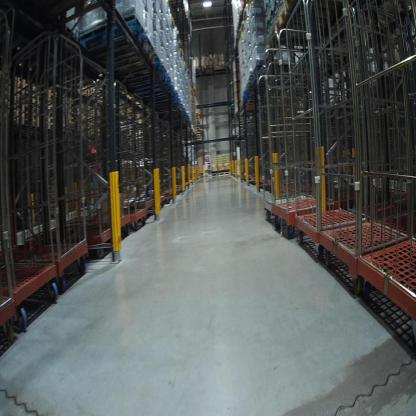pallet: (77, 19, 147, 57), (98, 42, 154, 78), (275, 5, 334, 39), (253, 61, 306, 90), (127, 64, 165, 92), (140, 76, 175, 103), (202, 169, 218, 180), (217, 169, 230, 177)
